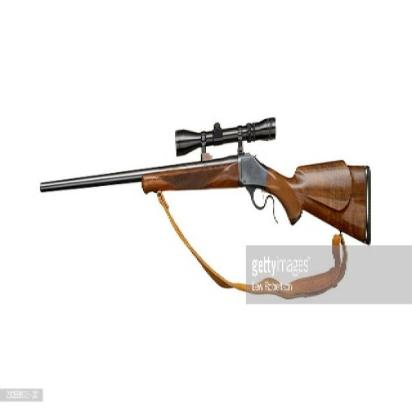Gun: (36, 113, 373, 249)
